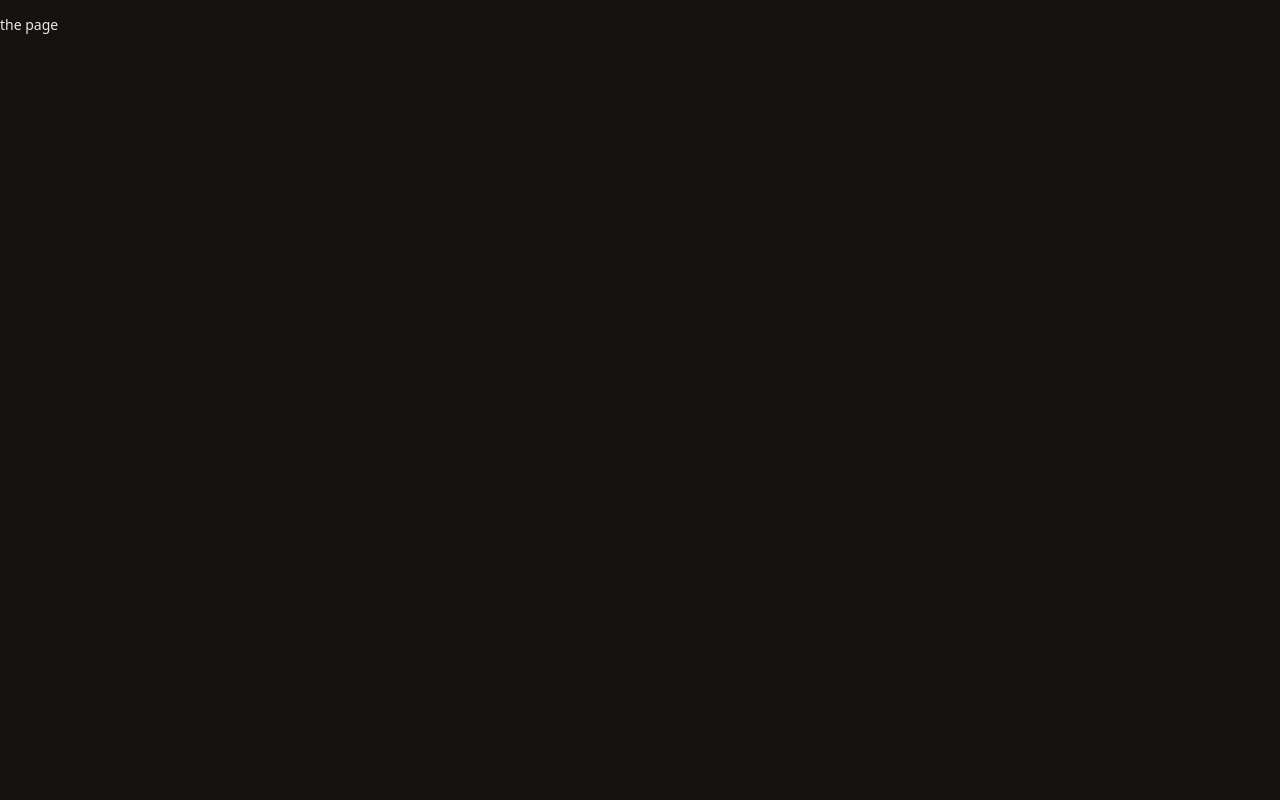
Test: turning the single-key shortcuts off › leaves the help sheet reachable through the palette
Type keys "{Control>}k{/Control}"
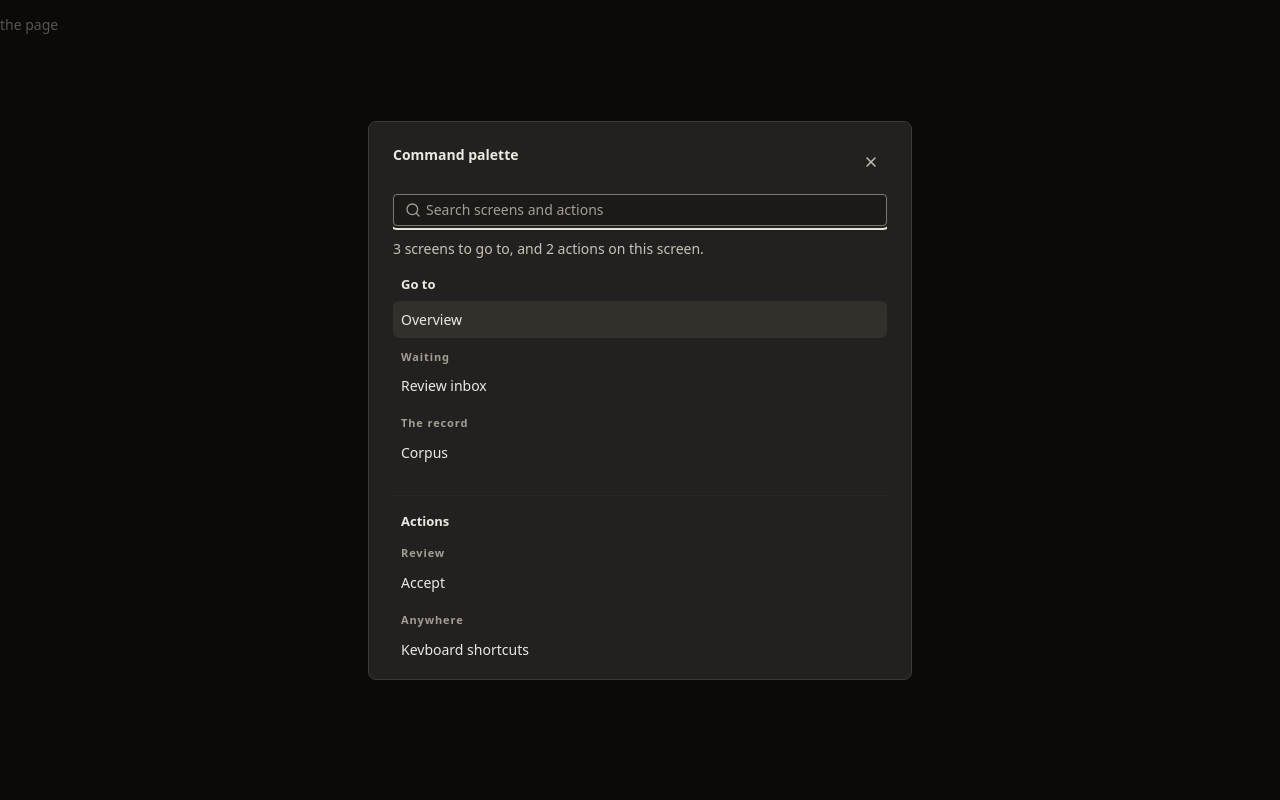
In the dropdown: (640, 210) left=393, top=194, right=887, bottom=226, type "keyboard"
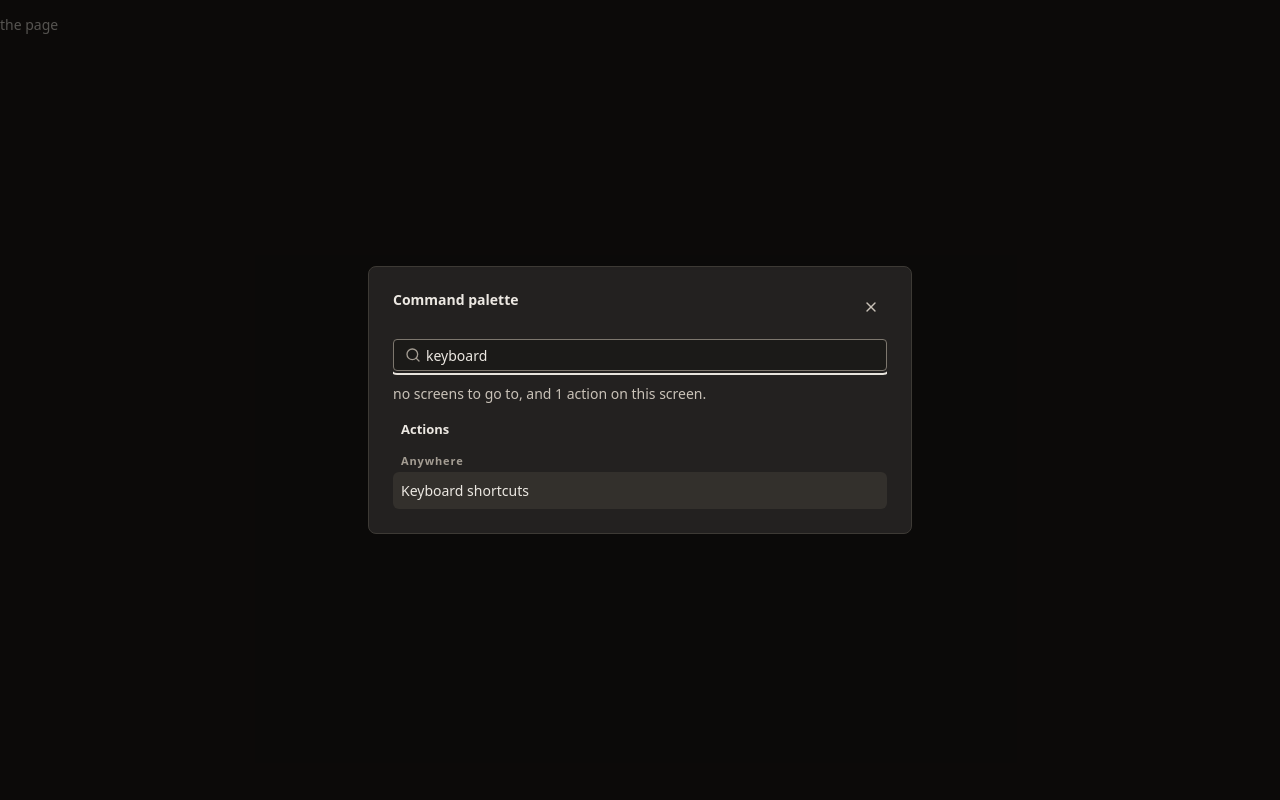
Press Enter
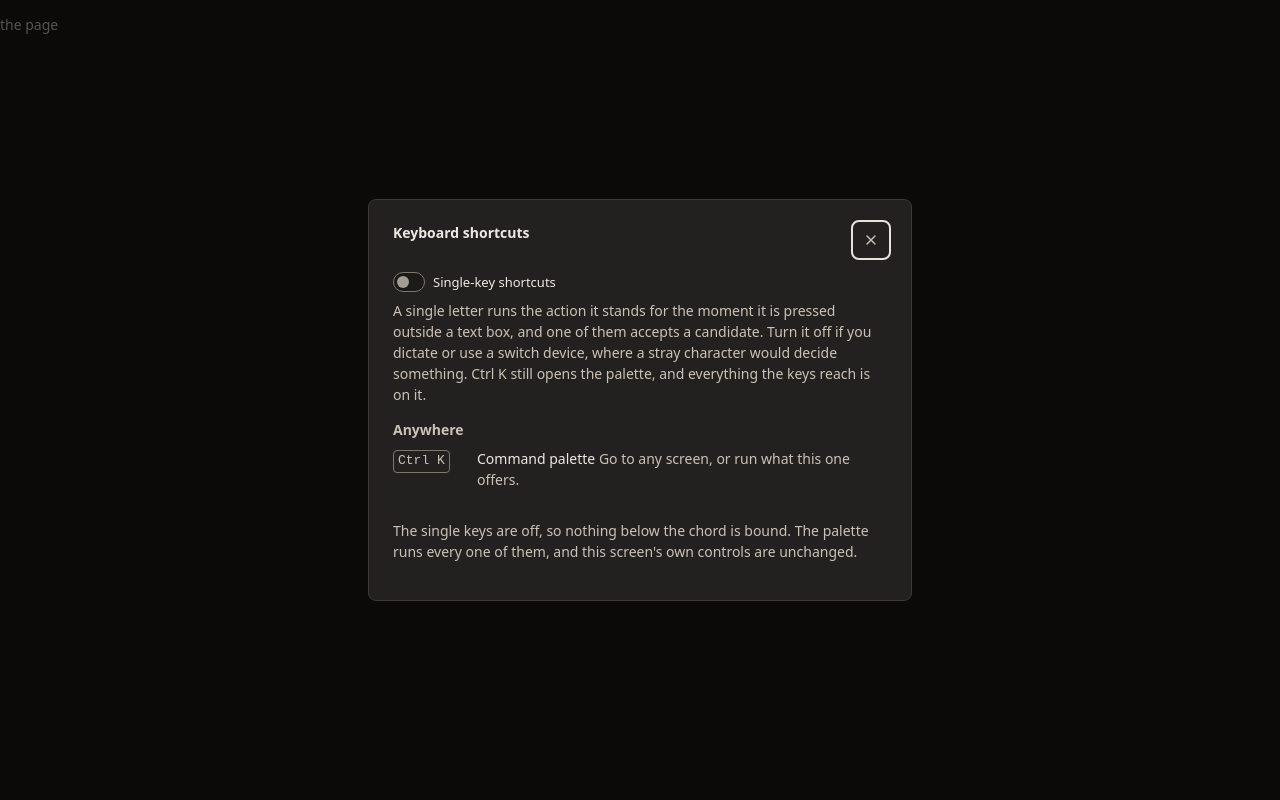
Check: the dialog "Keyboard shortcuts" shows "Single-key shortcuts", box left=433, top=273, right=556, bottom=291
